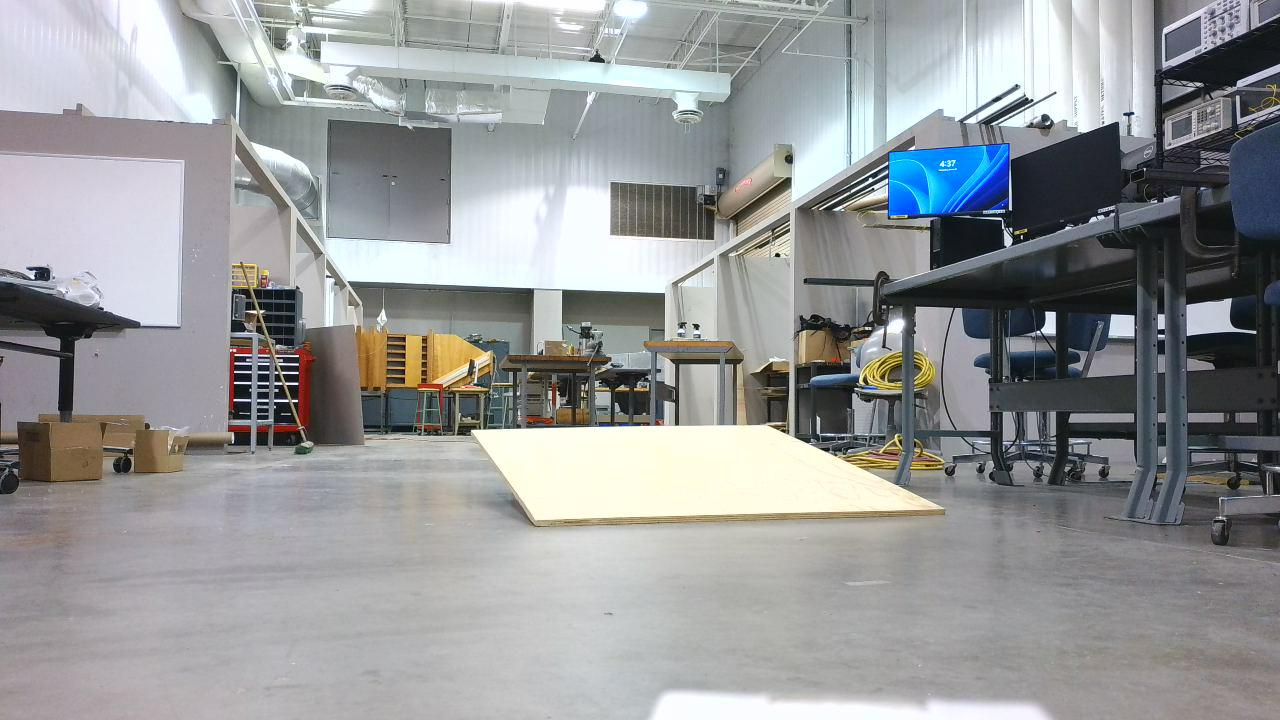ramp: (454, 426, 957, 537)
